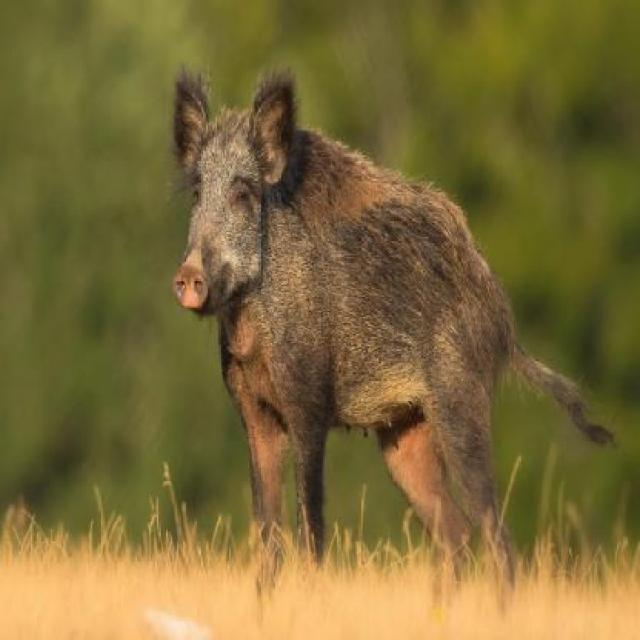wildboar: (162, 52, 633, 573)
